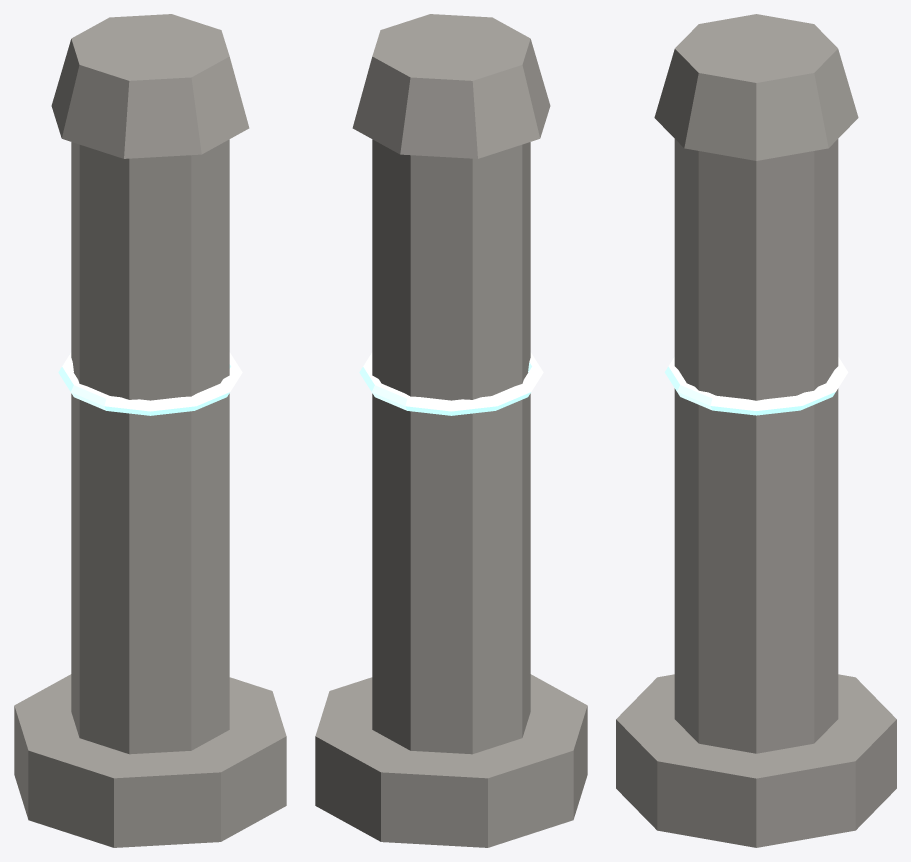
Rendered from stone_pillar.glb.
The picture shows the model from 3 angles, left to right: view 1: azimuth 30°, elevation 25°; view 2: azimuth 150°, elevation 25°; view 3: azimuth 270°, elevation 25°; orthographic projection.
Parts seen in each view (by area): view 1: Shaft, Base, Cap, Rune; view 2: Shaft, Base, Cap, Rune; view 3: Shaft, Base, Cap, Rune.
Boxes of the visible parts, x1,y1,x2,y2 form: Shaft: (71, 139, 229, 754); Base: (14, 674, 286, 847); Cap: (51, 14, 249, 158); Rune: (58, 352, 242, 415); Shaft: (372, 139, 530, 754); Base: (315, 674, 587, 847); Cap: (352, 14, 550, 158); Rune: (359, 352, 543, 415); Shaft: (674, 139, 838, 753); Base: (616, 674, 896, 847); Cap: (654, 14, 858, 160); Rune: (664, 357, 848, 415).
Bounding box in the file's own units: 1.1 × 3.2 × 1.1.
